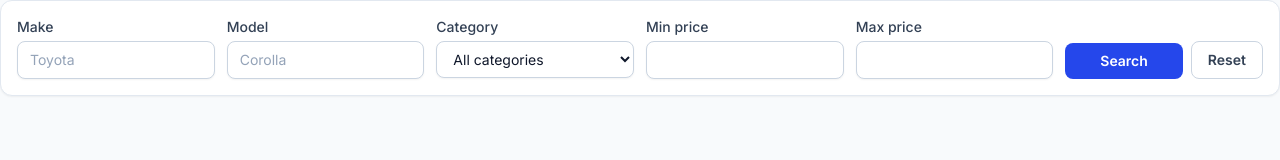
SearchBar › clears the filters on reset
This screenshot has width=1280, height=160.
Type "Ford" into the field labelled "Make". click: (116, 60)
box: top-left (17, 41), bottom-right (215, 79)
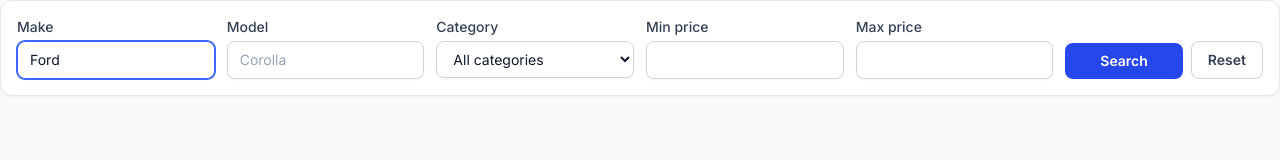
Click the button "Reset". click: (1227, 60)
box: top-left (1191, 41), bottom-right (1263, 79)
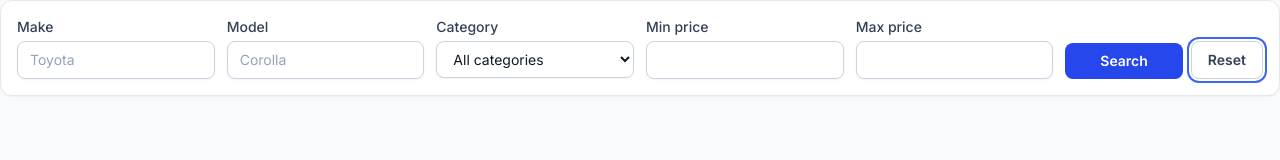
Expected: the field labelled "Make" is empty, top-left (17, 41), bottom-right (215, 79)
